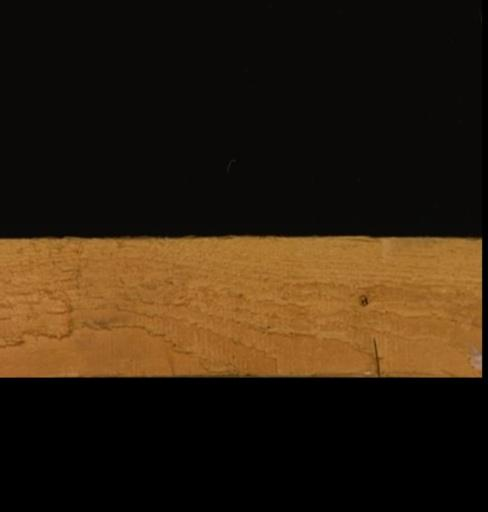dry_knot: (358, 291, 368, 306)
